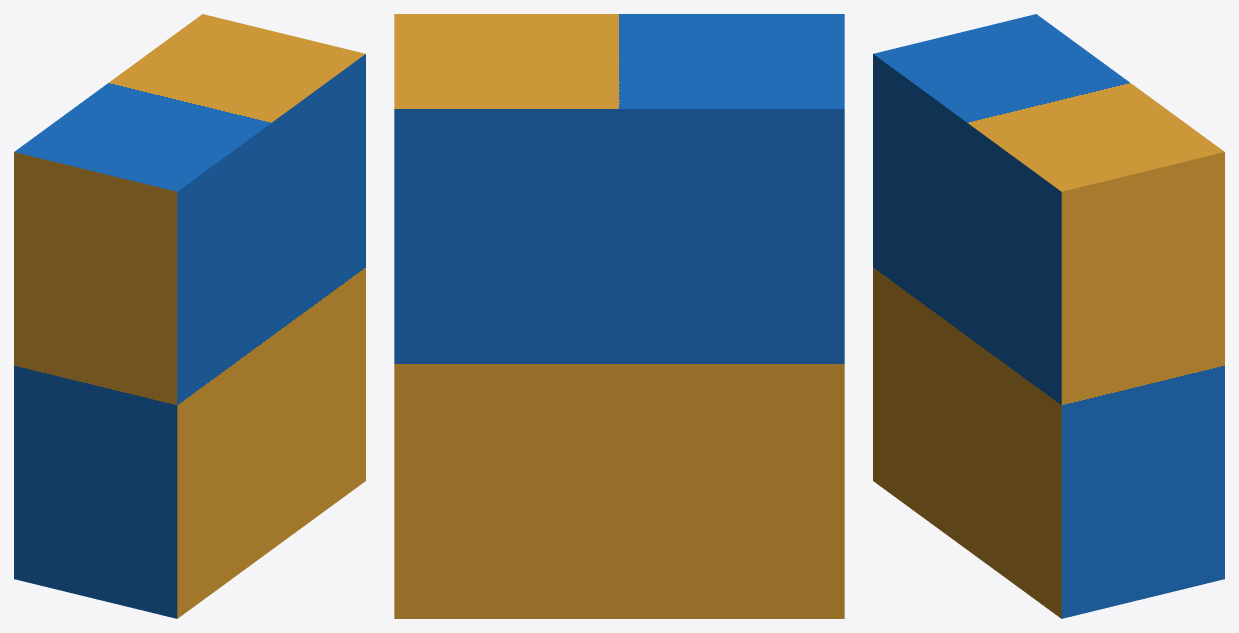
File: textured-control.glb
3 renders of one model, left to right at view 1: azimuth 30°, elevation 25°; view 2: azimuth 150°, elevation 25°; view 3: azimuth 270°, elevation 25°, orthographic. The views are drawn at different scales.
Visible parts, largest first — view 1: TexturedScaleControl; view 2: TexturedScaleControl; view 3: TexturedScaleControl.
Part boxes in pixels (x1=…): TexturedScaleControl: x1=14, y1=14, x2=365, y2=618; TexturedScaleControl: x1=394, y1=14, x2=844, y2=618; TexturedScaleControl: x1=873, y1=14, x2=1224, y2=618.
Bounding box in the file's own units: 1.34 × 1.5 × 1.12.
1 material, 1 textured.
